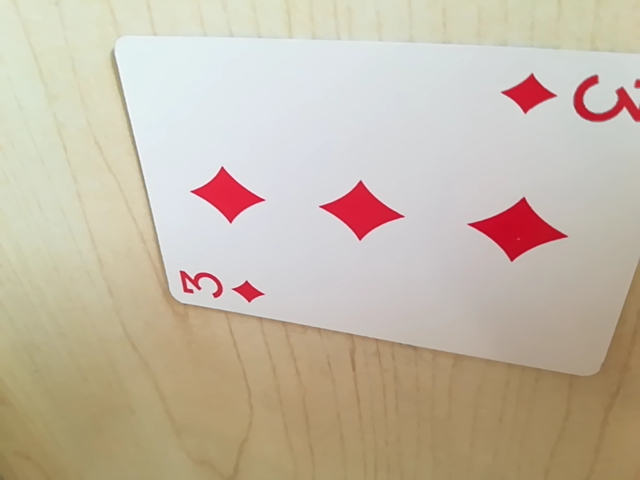fk 3: (496, 67, 640, 128), (175, 262, 271, 308)
